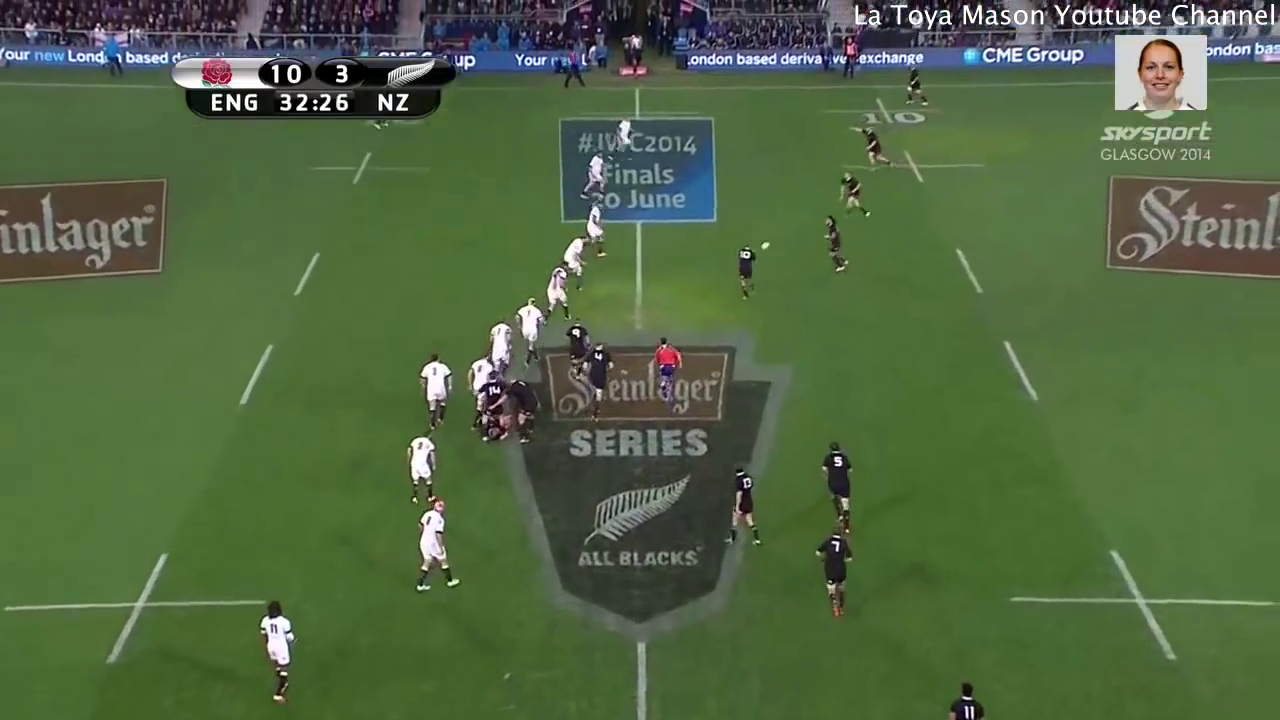10_metre: (1000, 539, 1280, 667), (1, 551, 275, 676), (829, 143, 994, 186), (306, 145, 437, 193), (821, 87, 952, 133)
ball: (752, 231, 773, 254)
player: (408, 496, 468, 600), (805, 524, 864, 626), (255, 596, 309, 707), (813, 435, 864, 538), (721, 462, 768, 552), (649, 335, 689, 414), (577, 337, 617, 414), (815, 210, 857, 281), (416, 348, 451, 432), (401, 427, 441, 500), (505, 372, 541, 448), (473, 368, 511, 439), (853, 120, 898, 176), (831, 167, 875, 221), (940, 670, 987, 720), (481, 316, 518, 378), (541, 264, 574, 321), (515, 296, 542, 363), (733, 242, 763, 301), (581, 196, 607, 264), (562, 233, 587, 292), (465, 351, 495, 400), (581, 149, 609, 200), (899, 59, 926, 109), (613, 115, 639, 160), (566, 321, 585, 380)
